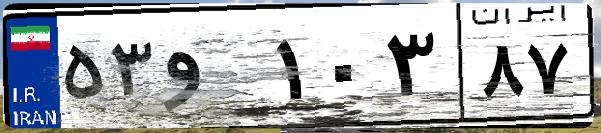0: (330, 28, 385, 110)
1: (270, 28, 330, 110)
3: (385, 28, 445, 110), (110, 28, 158, 98)
5: (57, 26, 110, 100)
7: (525, 38, 570, 115)
8: (475, 38, 525, 113)
و: (158, 20, 270, 120)
